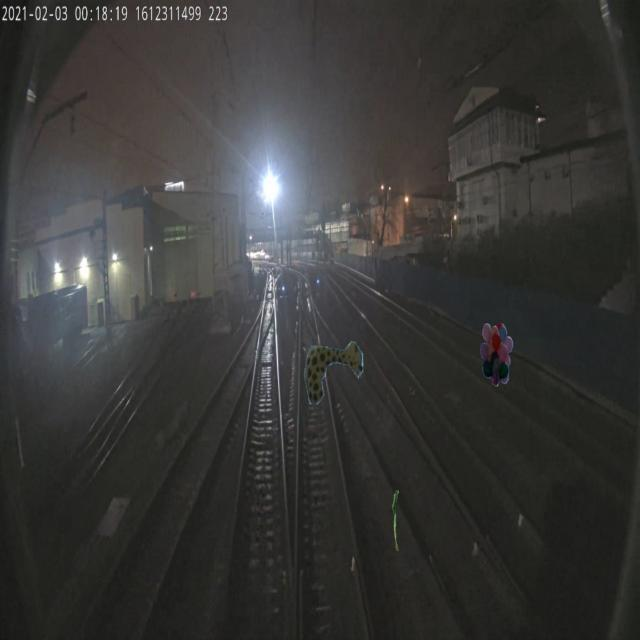balloon: (480, 322, 513, 387)
floating object: (304, 340, 364, 404), (392, 489, 399, 554)
